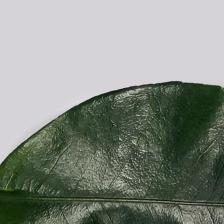healthy: (0, 85, 224, 224)
